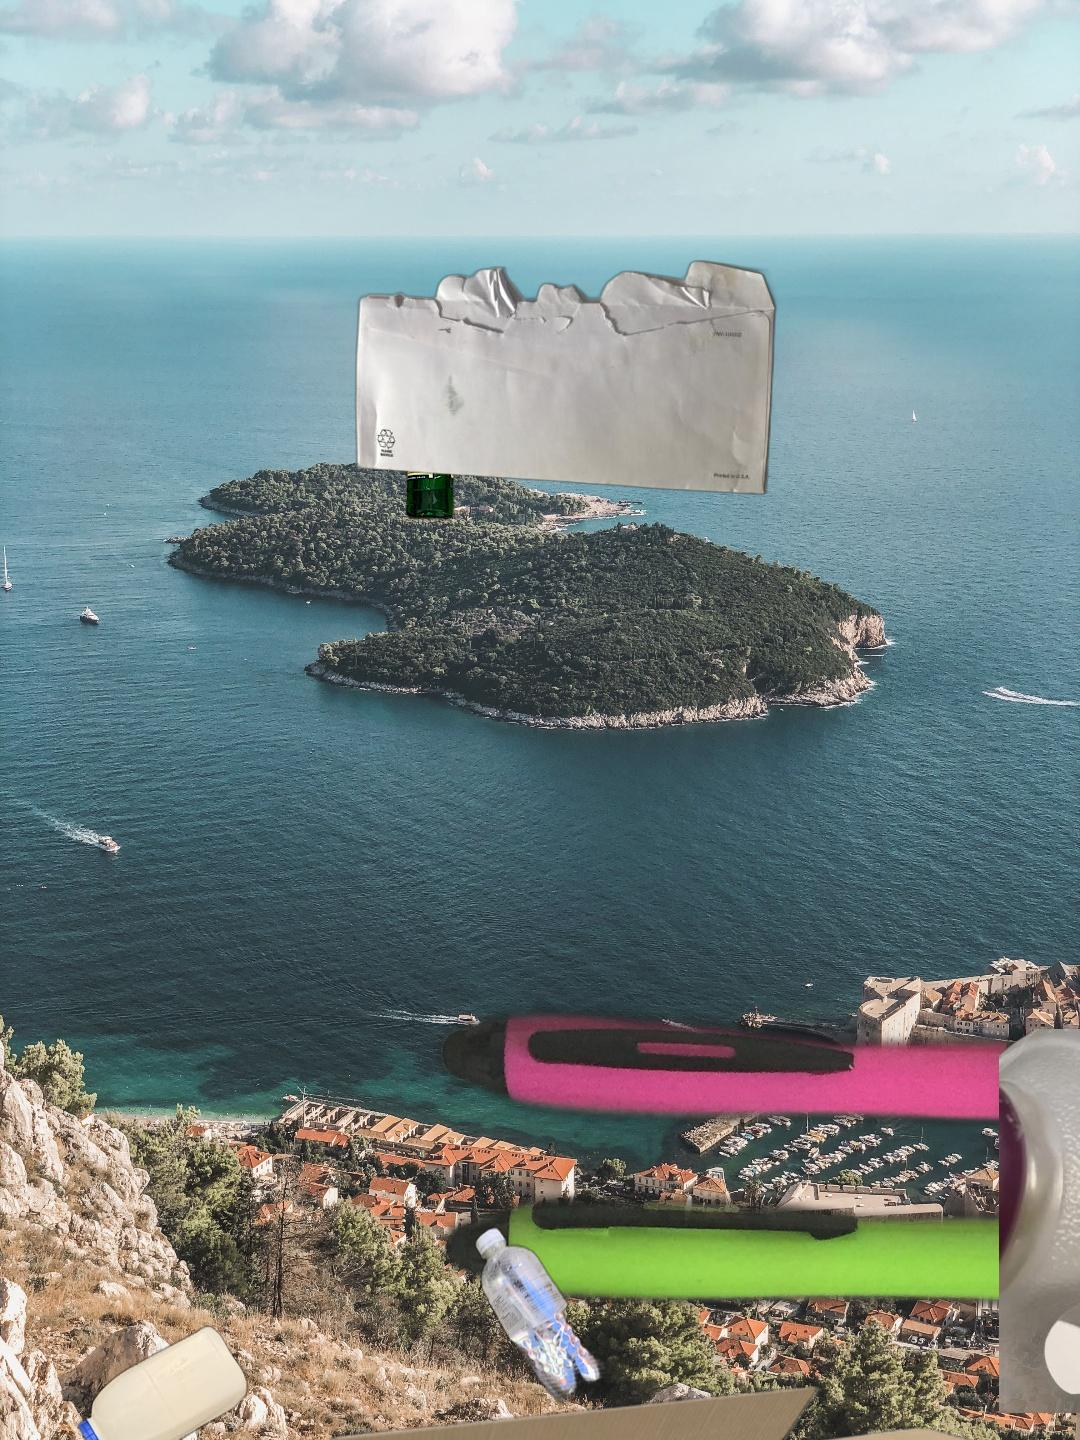glass: (400, 324, 459, 525)
paper: (351, 259, 781, 497)
penholder: (348, 992, 1080, 1440)
plastic-bottles: (471, 1222, 646, 1409), (999, 1030, 1080, 1413), (73, 1320, 251, 1440)
trashbox-cardboard: (309, 1382, 1080, 1440)
